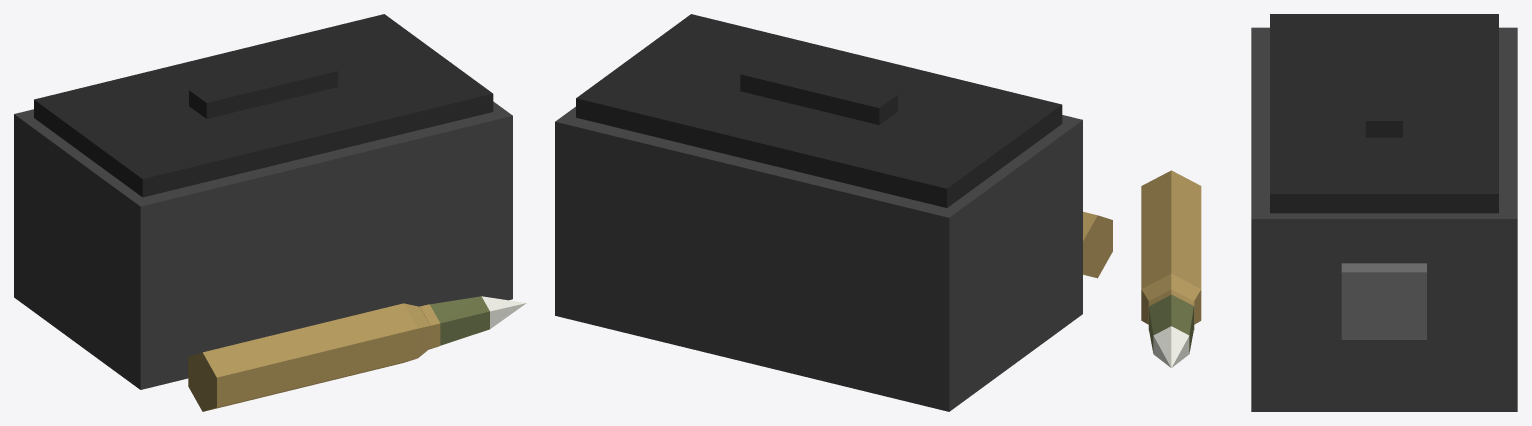
File: ce_ammo_light_he_c.obj
3 renders of one model, left to right at view 1: azimuth 30°, elevation 25°; view 2: azimuth 150°, elevation 25°; view 3: azimuth 270°, elevation 25°, orthographic. The views are drawn at different scales.
Visible parts, largest first — view 1: ce_ammo_light_he_c_0, ce_ammo_light_he_c_1, ce_ammo_light_he_c_4, ce_ammo_light_he_c_2, ce_ammo_light_he_c_7, ce_ammo_light_he_c_8, ce_ammo_light_he_c_5, ce_ammo_light_he_c_6; view 2: ce_ammo_light_he_c_0, ce_ammo_light_he_c_1, ce_ammo_light_he_c_2, ce_ammo_light_he_c_4; view 3: ce_ammo_light_he_c_0, ce_ammo_light_he_c_1, ce_ammo_light_he_c_3, ce_ammo_light_he_c_4, ce_ammo_light_he_c_2, ce_ammo_light_he_c_7, ce_ammo_light_he_c_5, ce_ammo_light_he_c_8.
Boxes of the visible parts, x1,y1,x2,y2 form: ce_ammo_light_he_c_0: (14,101,512,389); ce_ammo_light_he_c_1: (34,14,493,197); ce_ammo_light_he_c_4: (188,303,417,411); ce_ammo_light_he_c_2: (189,58,337,118); ce_ammo_light_he_c_7: (430,296,489,345); ce_ammo_light_he_c_8: (481,296,526,328); ce_ammo_light_he_c_5: (404,303,430,357); ce_ammo_light_he_c_6: (420,304,440,349); ce_ammo_light_he_c_0: (555,106,1082,411); ce_ammo_light_he_c_1: (576,14,1062,207); ce_ammo_light_he_c_2: (740,60,897,124); ce_ammo_light_he_c_4: (1083,211,1112,278); ce_ammo_light_he_c_0: (1251,27,1517,411); ce_ammo_light_he_c_1: (1270,14,1498,213); ce_ammo_light_he_c_3: (1341,263,1426,339); ce_ammo_light_he_c_4: (1141,170,1201,288); ce_ammo_light_he_c_2: (1365,53,1402,137); ce_ammo_light_he_c_7: (1149,295,1193,353); ce_ammo_light_he_c_5: (1141,273,1201,324); ce_ammo_light_he_c_8: (1153,326,1189,367).
Bounding box in the file's own units: 0.89 × 0.475 × 0.7063.
